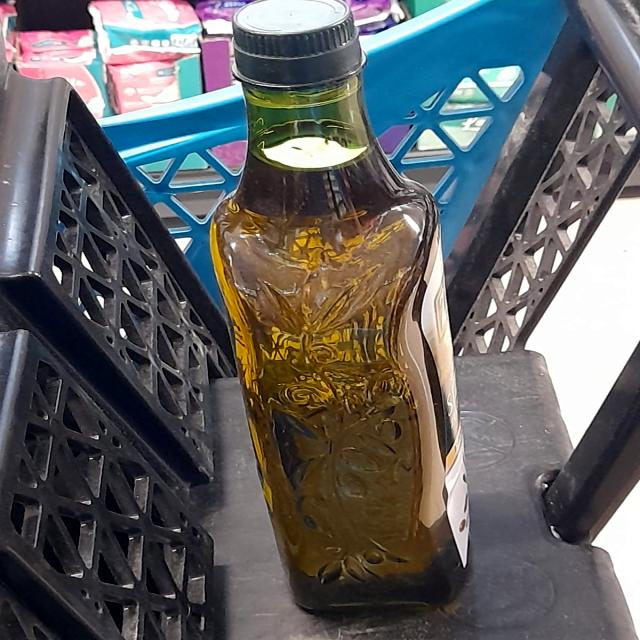olive oil: (183, 163, 496, 623)
